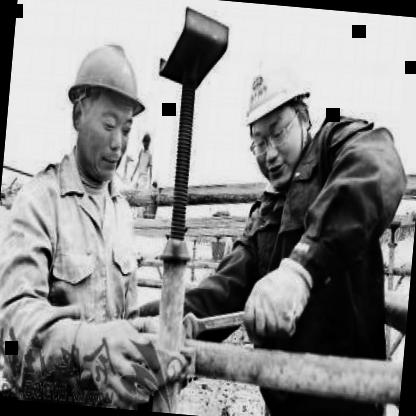helmet: (51, 26, 160, 188), (228, 34, 328, 195)
